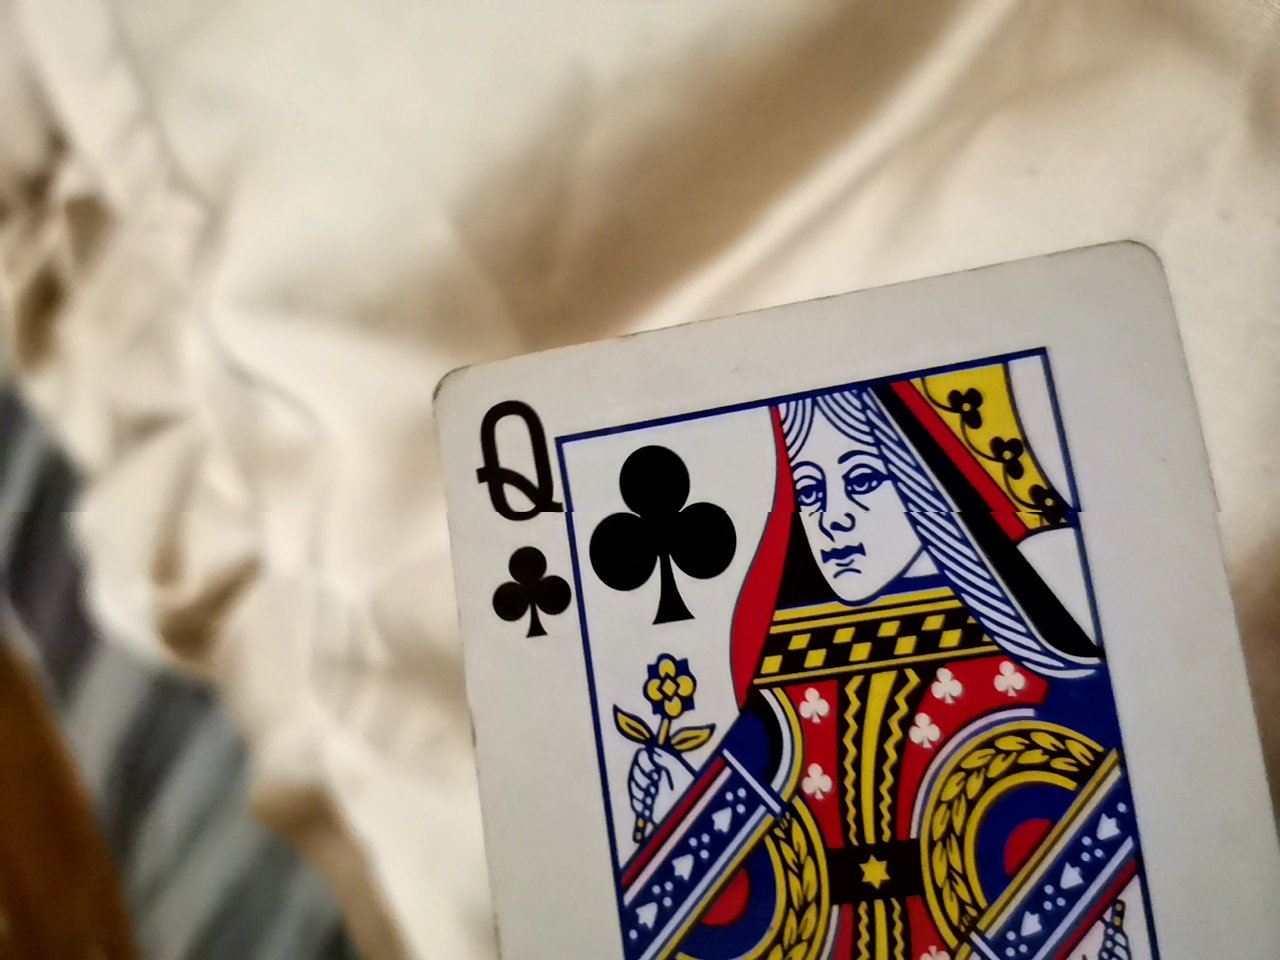mh q: (383, 189, 1259, 954)
